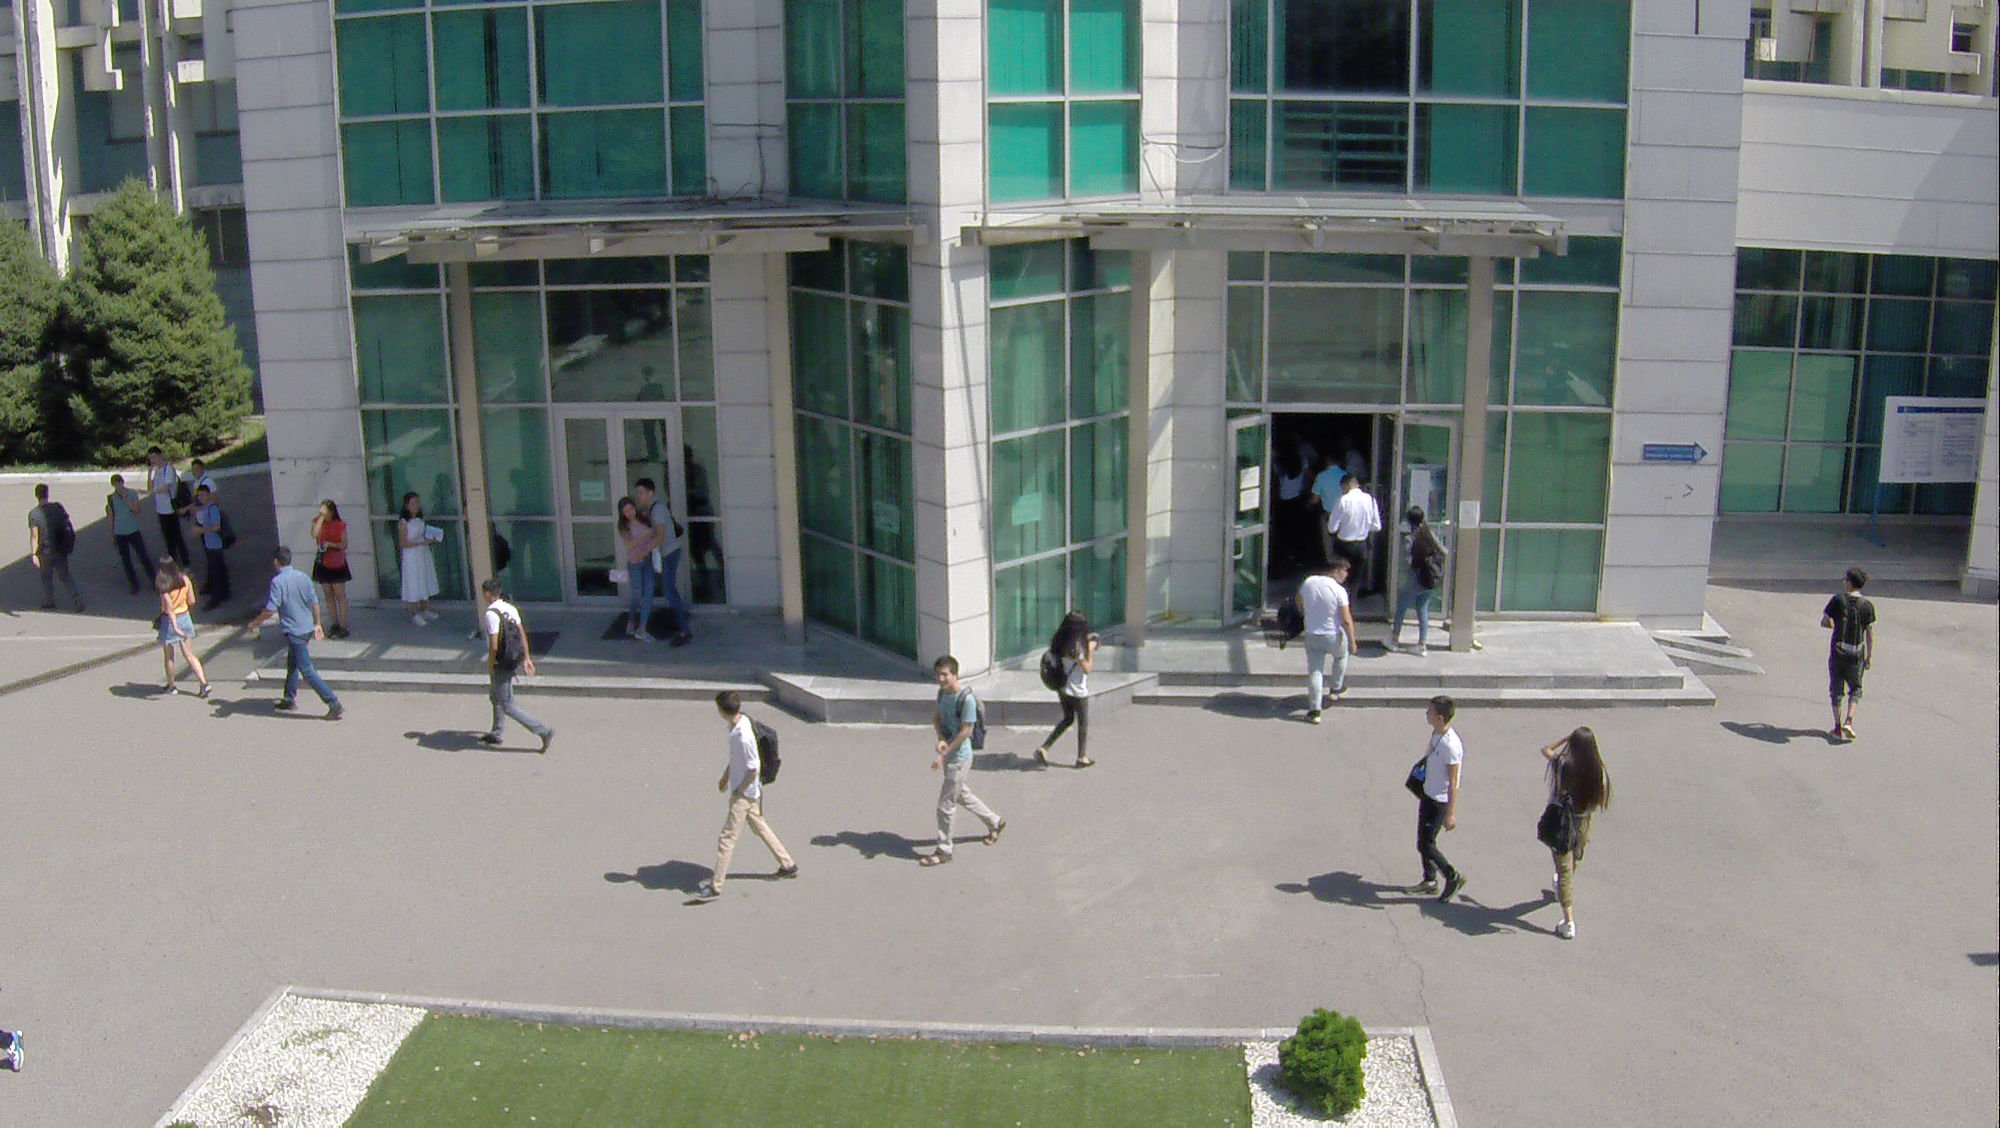person: (677, 689, 799, 908), (917, 656, 1007, 876), (245, 545, 344, 728), (461, 578, 558, 764), (1536, 725, 1611, 942), (1399, 692, 1466, 910), (1281, 557, 1359, 725), (1027, 602, 1100, 771), (1815, 564, 1875, 751), (145, 555, 217, 707), (1380, 506, 1449, 660), (641, 481, 698, 651), (25, 481, 90, 614), (389, 489, 444, 629), (102, 474, 159, 596), (308, 498, 355, 640), (610, 498, 652, 642), (197, 486, 234, 614), (149, 445, 190, 555), (187, 458, 212, 488)
